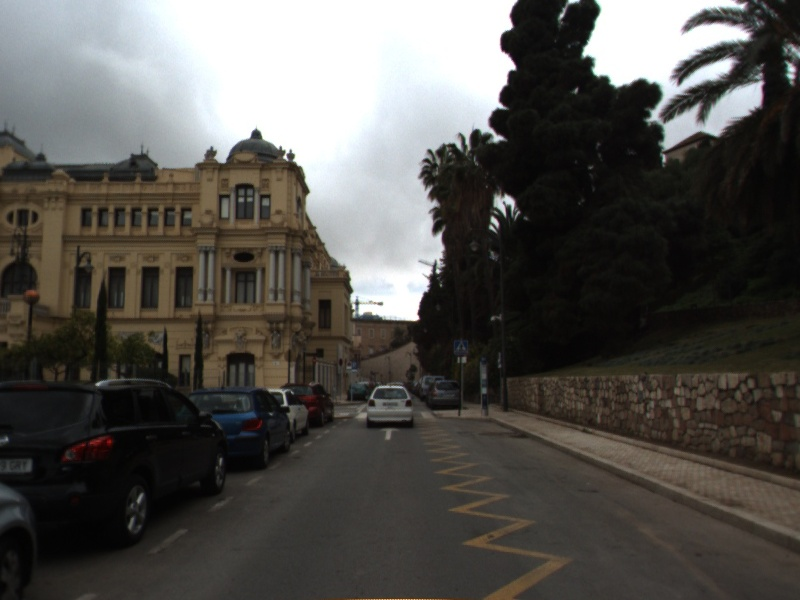STRAIGHT: (378, 425, 402, 442)
